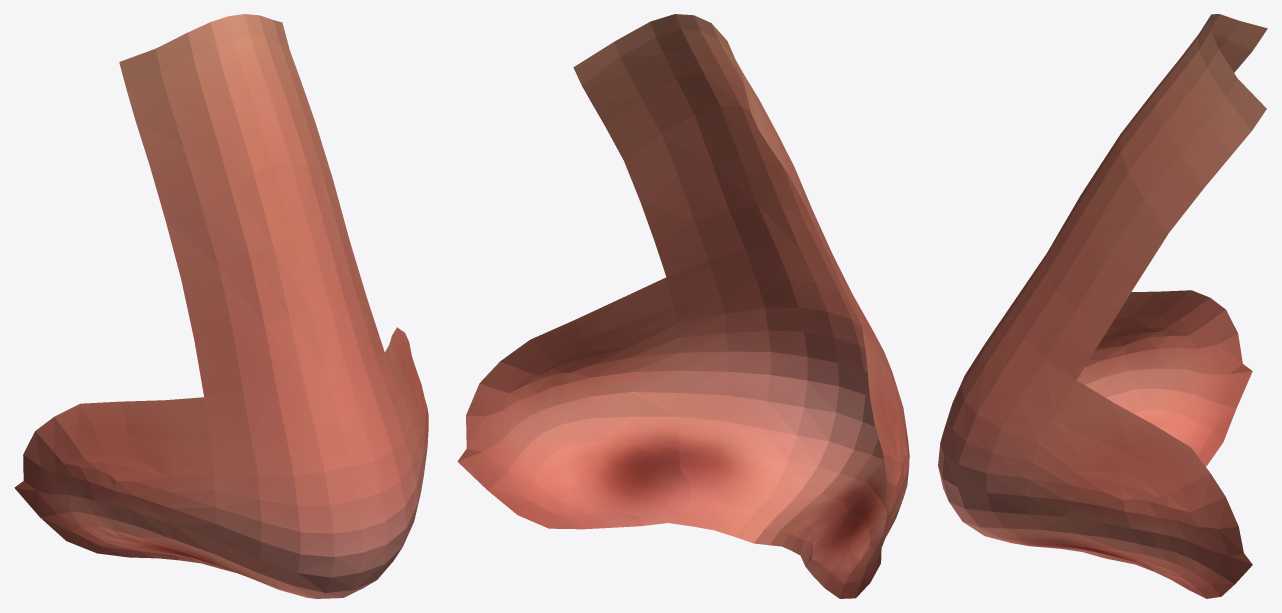
Rendered from euro-nose-nostril-down.obj.
3 views of the same model, side by side, from view 1: azimuth 30°, elevation 25°; view 2: azimuth 150°, elevation 25°; view 3: azimuth 270°, elevation 25° (orthographic). The views are drawn at different scales.
Visible parts, largest first — view 1: euro-nose-nostril-dow; view 2: euro-nose-nostril-dow; view 3: euro-nose-nostril-dow.
Part boxes in pixels (x1=…): euro-nose-nostril-dow: x1=14, y1=14, x2=428, y2=598; euro-nose-nostril-dow: x1=457, y1=14, x2=909, y2=598; euro-nose-nostril-dow: x1=938, y1=14, x2=1267, y2=598.
Size of the model in its own units: 0.3956 by 0.5108 by 0.2868.
Materials: 1 (1 with a texture image).
